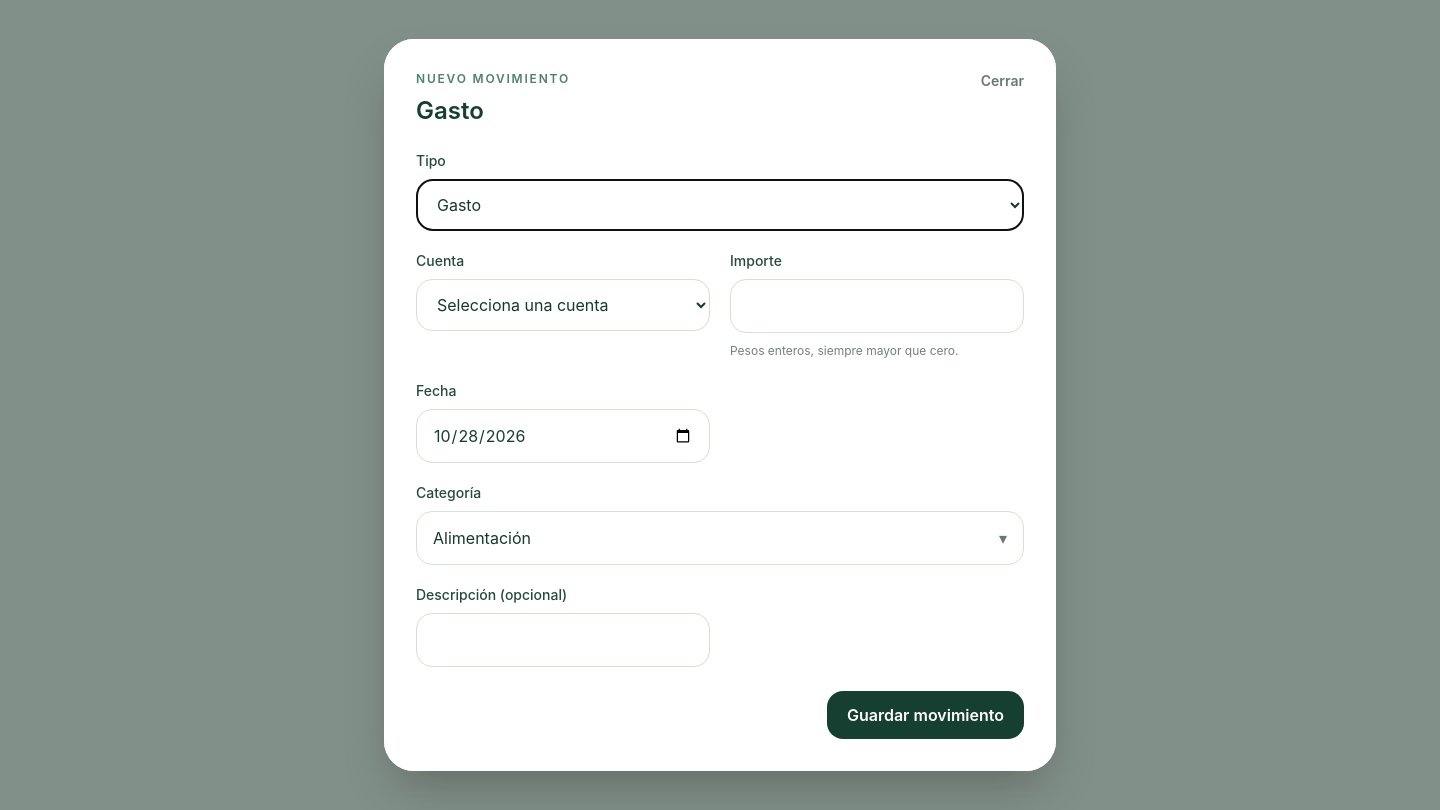
Test: selector buscable en movimientos › selecciona con flechas y Enter sin enviar el formulario y conserva el foco
The width and height of the screenshot is (1440, 810).
Click the button named "Categoría" at (482, 538), box x1=416 y1=511 x2=1024 y2=565
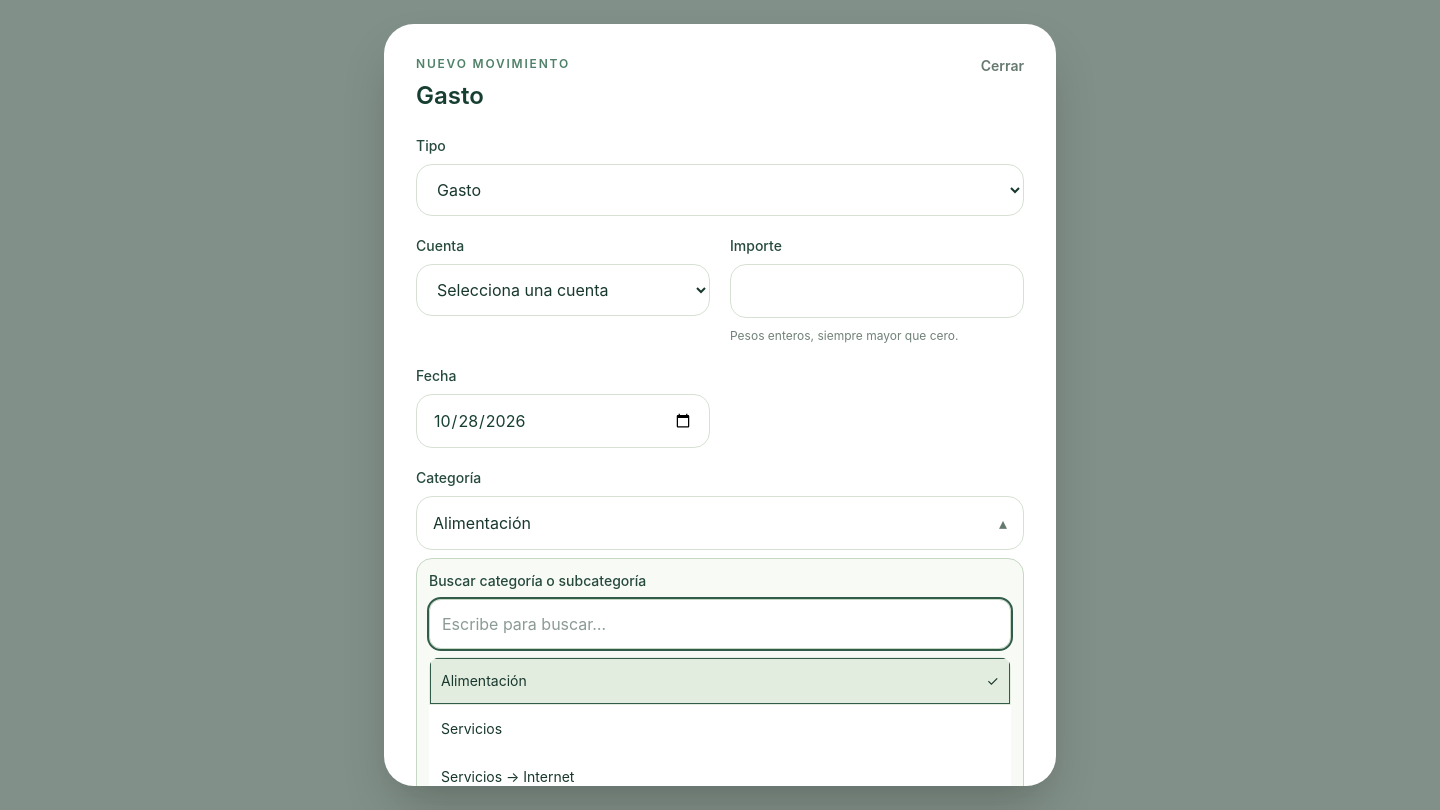
Type "telefonía" into the dropdown labelled "Buscar categoría o subcategoría" at (720, 624), box x1=429 y1=599 x2=1011 y2=649
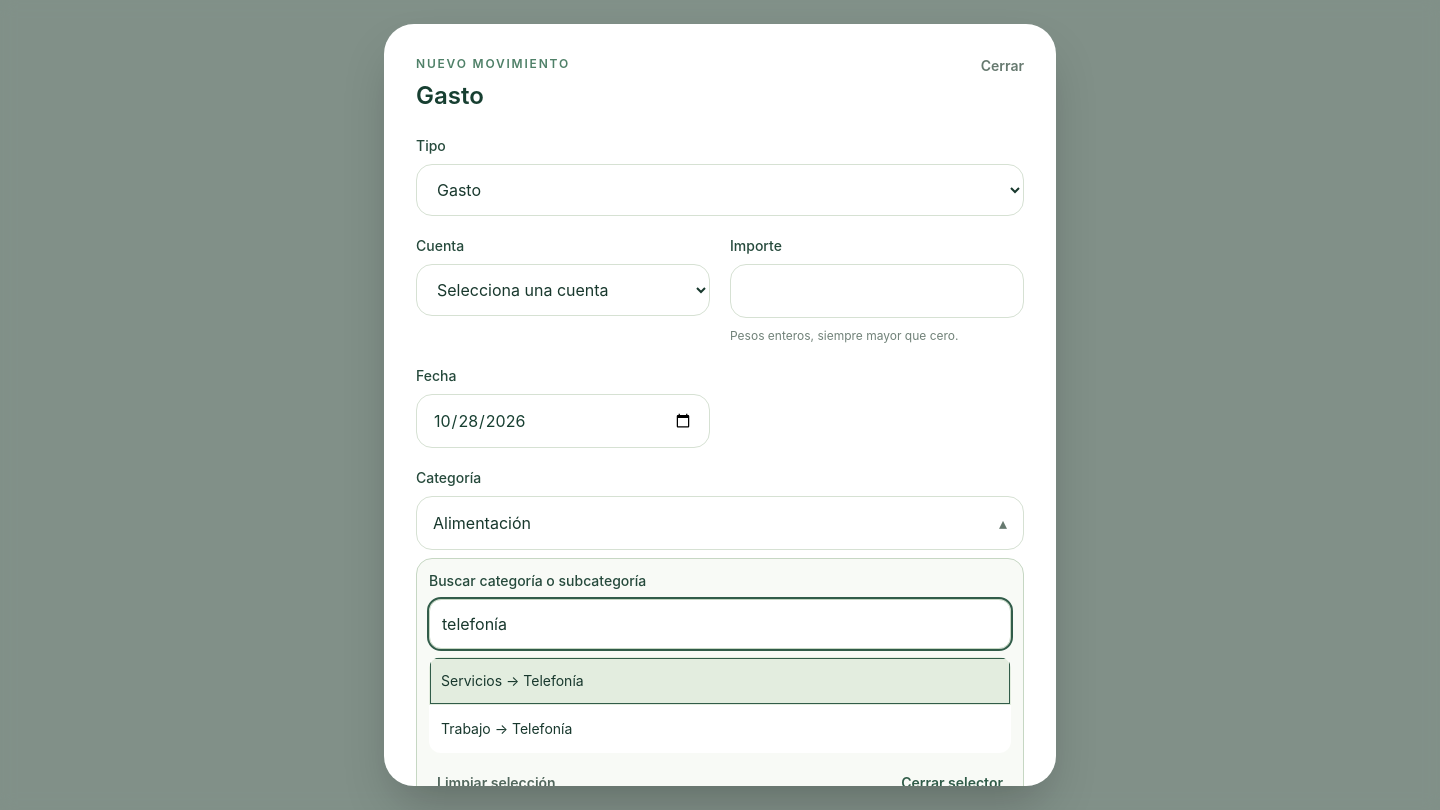
Press Arrowdown
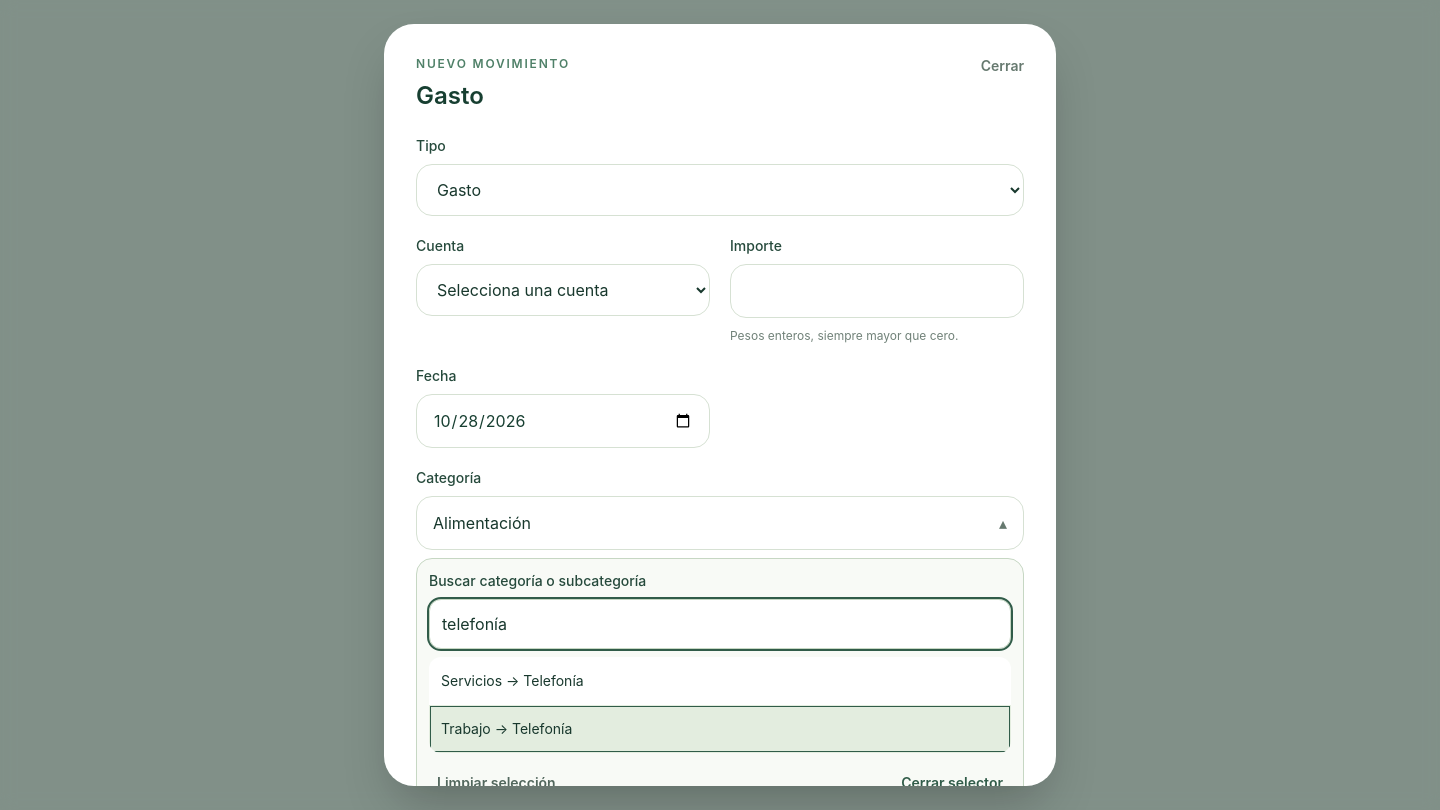
Press Arrowup Enter
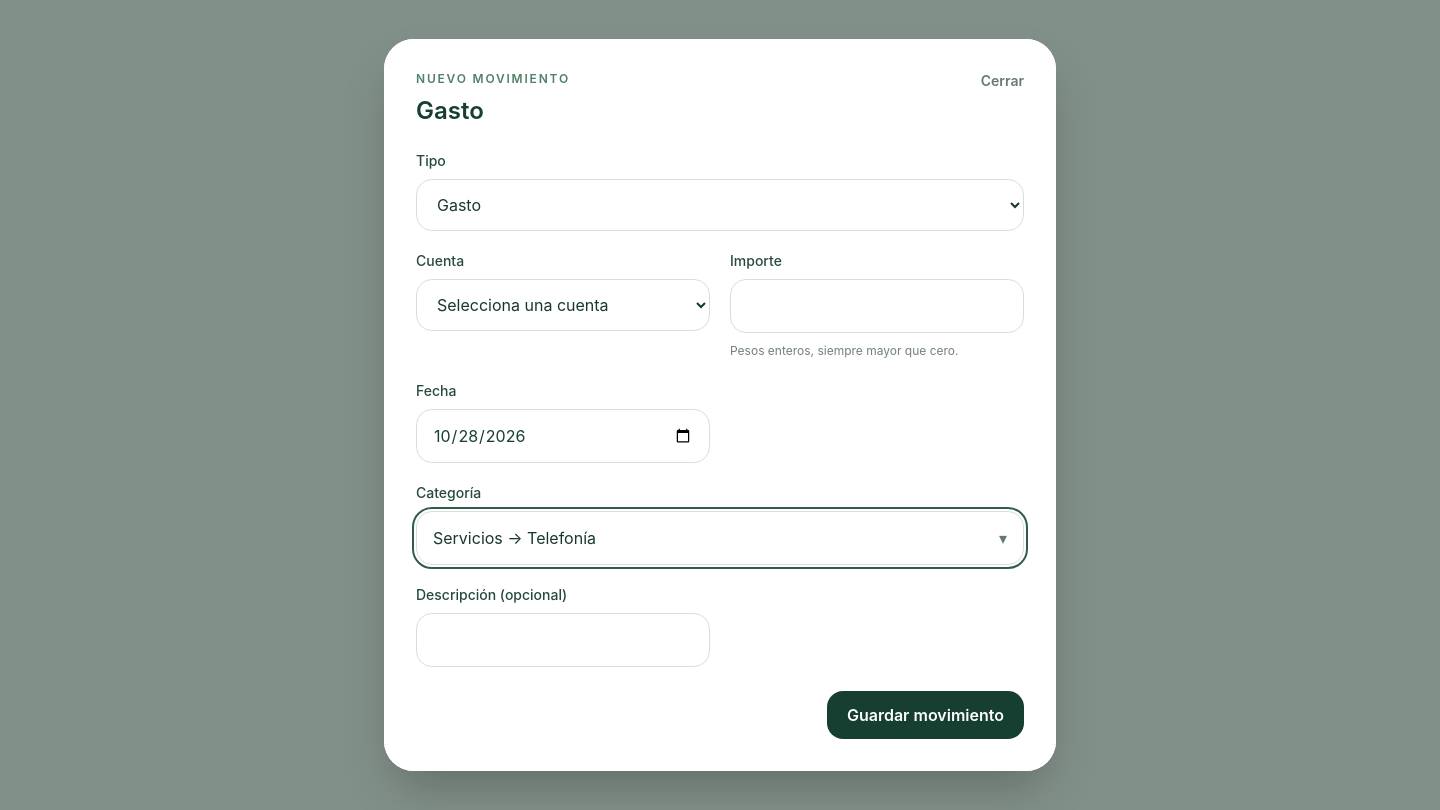
Result: the button named "Categoría" shows "Servicios → Telefonía" at x1=416 y1=511 x2=1024 y2=565
